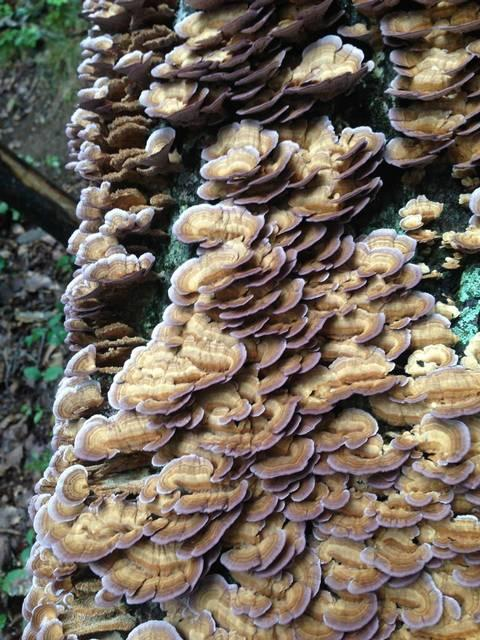poisonous_mushroom: (17, 0, 479, 639)
